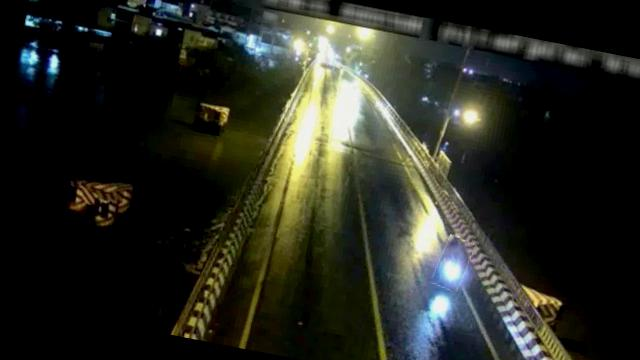Bike: (432, 234, 474, 292)
